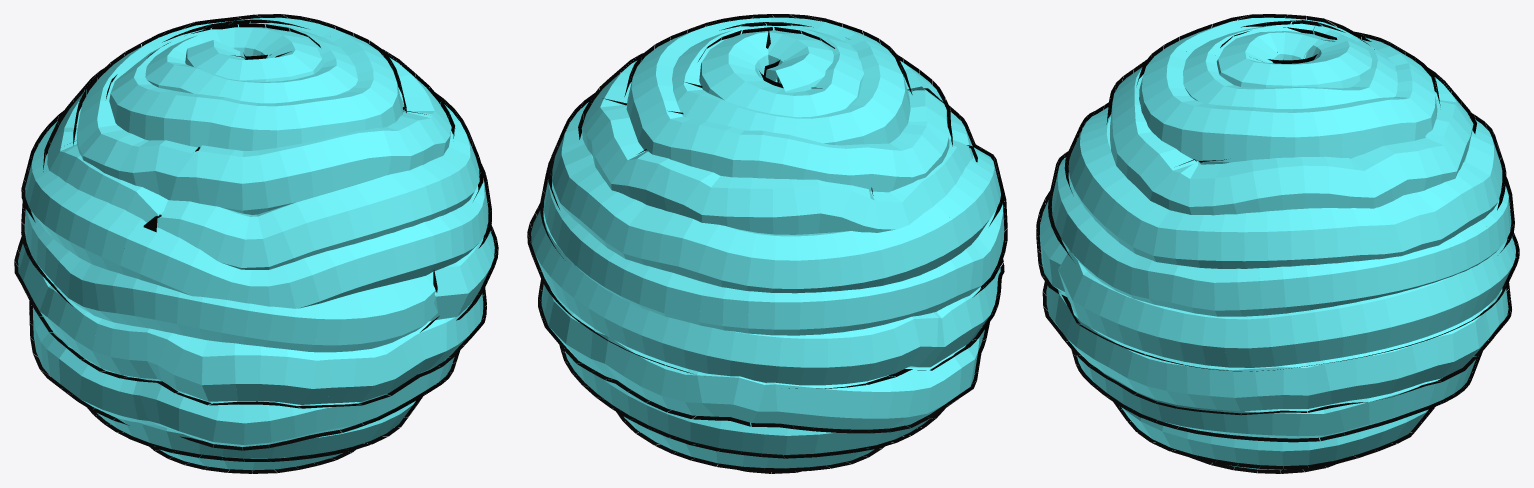
File: Enemy4.fbx
3 renders of one model, left to right at view 1: azimuth 30°, elevation 25°; view 2: azimuth 150°, elevation 25°; view 3: azimuth 270°, elevation 25°, orthographic.
Visible parts, largest first — view 1: Cylinder.001; view 2: Cylinder.001; view 3: Cylinder.001.
Boxes of the visible parts, x1,y1,x2,y2 form: Cylinder.001: [14, 14, 498, 473]; Cylinder.001: [527, 14, 1007, 473]; Cylinder.001: [1036, 14, 1519, 473].
Size of the model in its own units: 252 by 237 by 255.
